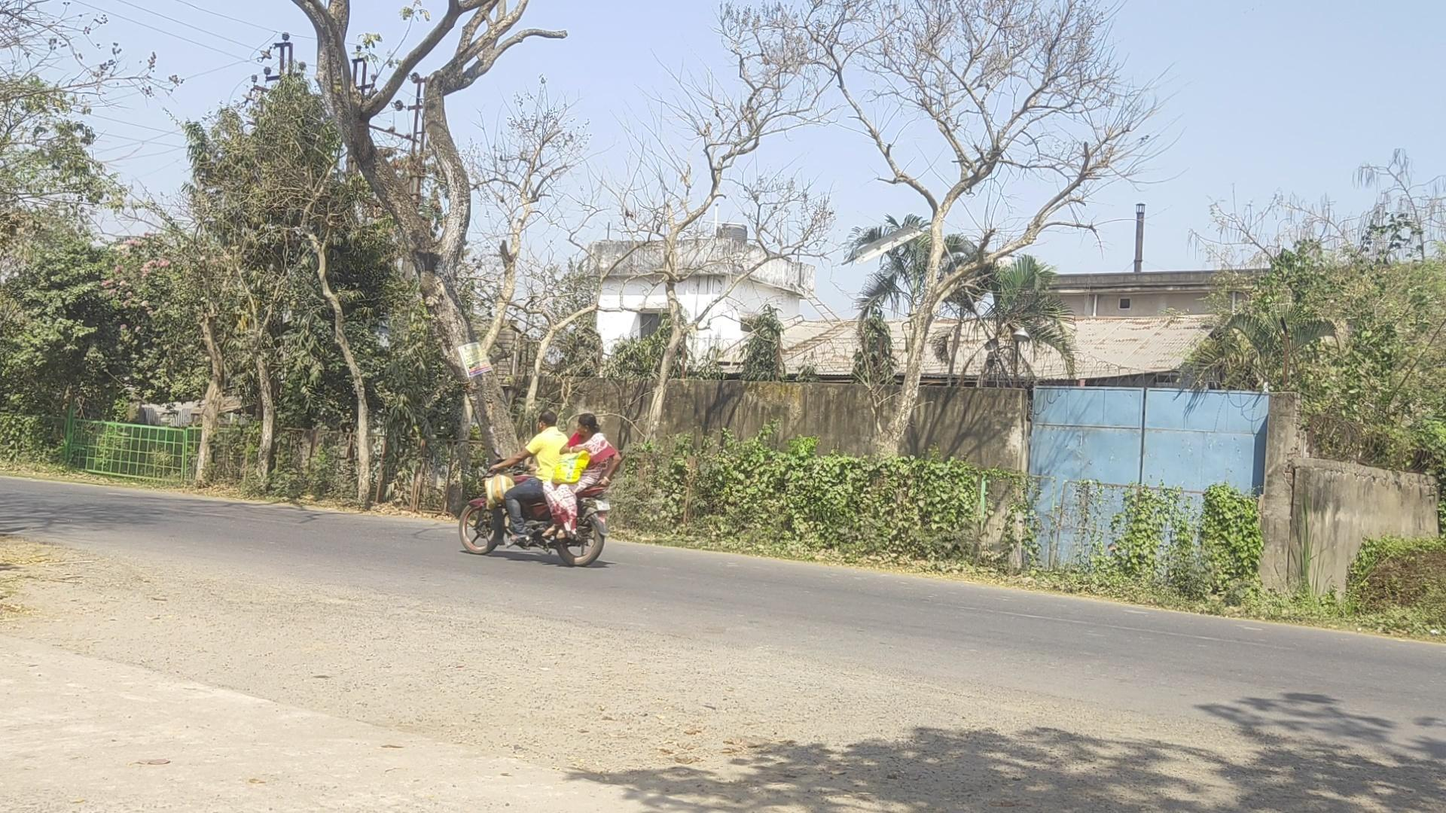bike: (459, 410, 621, 567)
